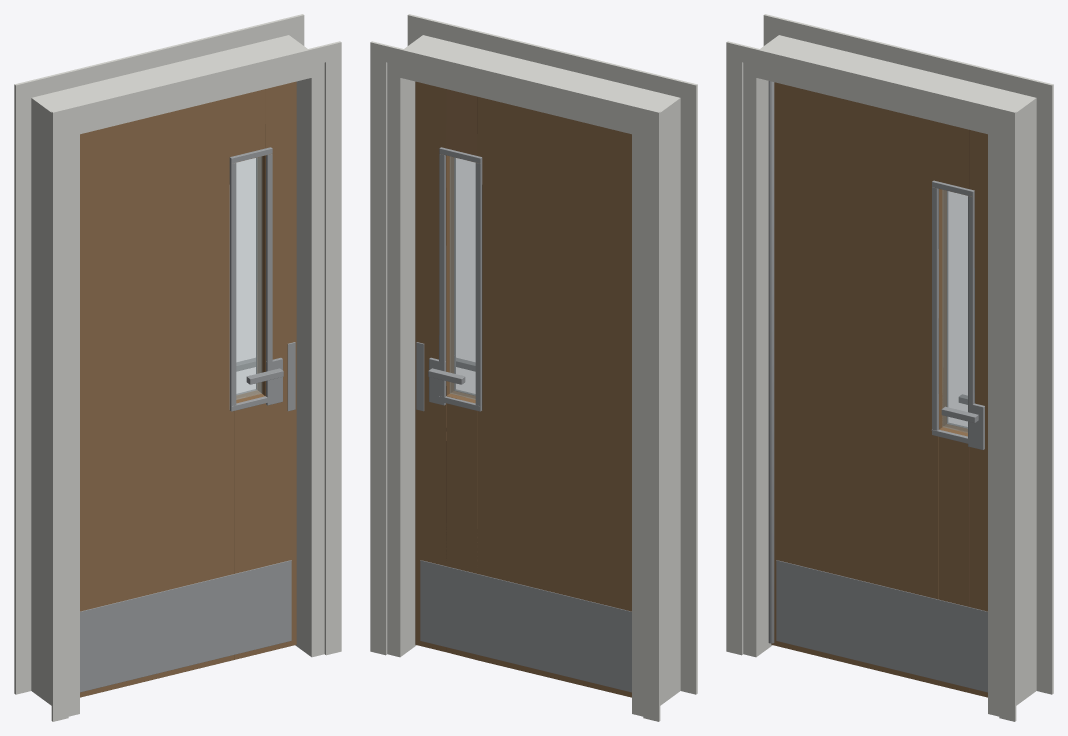
File: DOOR_Interior_Single_1000.glb
The picture shows the model from 3 angles, left to right: view 1: azimuth 30°, elevation 25°; view 2: azimuth 150°, elevation 25°; view 3: azimuth 330°, elevation 25°; orthographic projection.
Visible parts, largest first — view 1: DOOR_Interior_Single_1000_Leaf, DOOR_Interior_Single_1000_Frame; view 2: DOOR_Interior_Single_1000_Leaf, DOOR_Interior_Single_1000_Frame; view 3: DOOR_Interior_Single_1000_Leaf, DOOR_Interior_Single_1000_Frame.
Part boxes in pixels (<box>): DOOR_Interior_Single_1000_Leaf: <box>80,81,296,697</box>; DOOR_Interior_Single_1000_Frame: <box>14,14,341,721</box>; DOOR_Interior_Single_1000_Leaf: <box>415,81,631,697</box>; DOOR_Interior_Single_1000_Frame: <box>370,14,697,721</box>; DOOR_Interior_Single_1000_Leaf: <box>768,81,987,697</box>; DOOR_Interior_Single_1000_Frame: <box>726,14,1053,721</box>.
Size of what is drawn, in the model's own units: 1.12 by 2.26 by 0.26.
